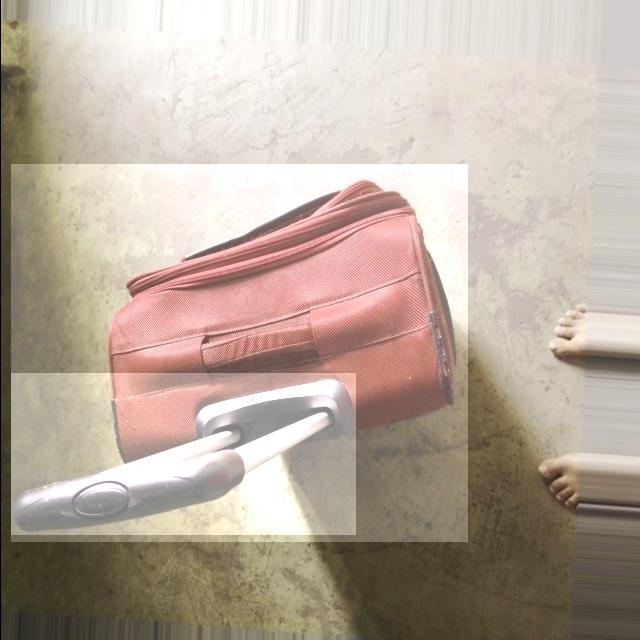Bag: (14, 165, 480, 538)
Handle: (12, 387, 346, 537)
